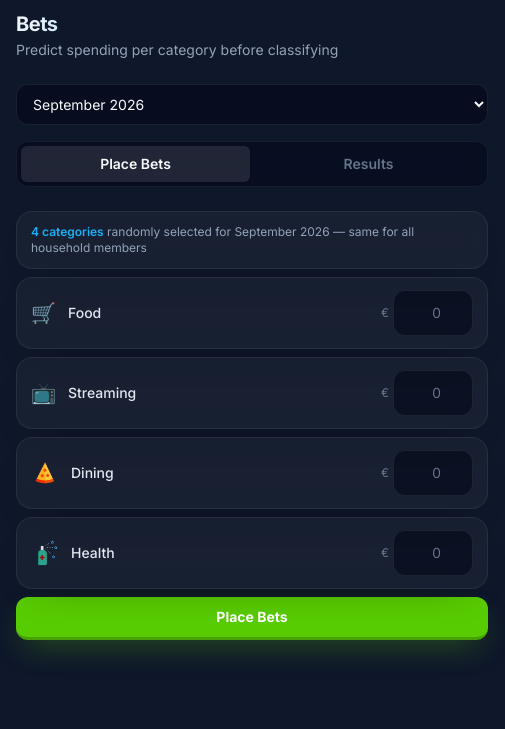
BetsPage › shows error banner when submitBets returns an error
The image size is (505, 729).
Type "100" into the number field with placeholder "0" in the row of "Food".
click(433, 313); type("100")  # box [393,290,473,336]
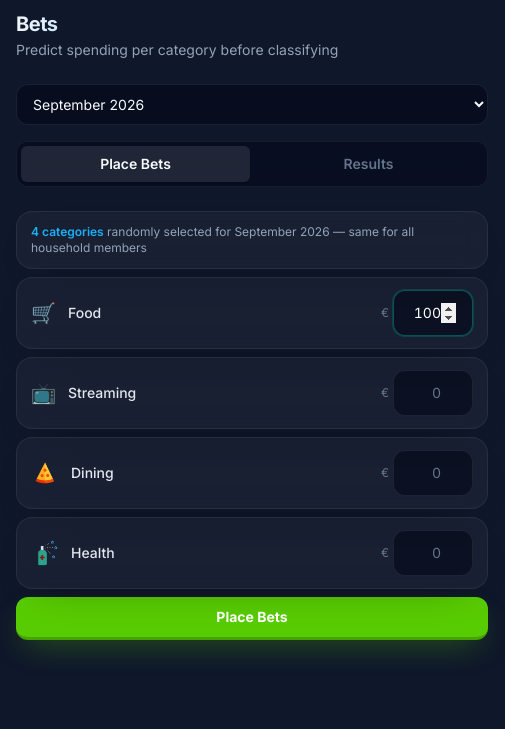
Click the button "Place Bets" below "Health".
click(252, 618)  # box [16,597,488,640]
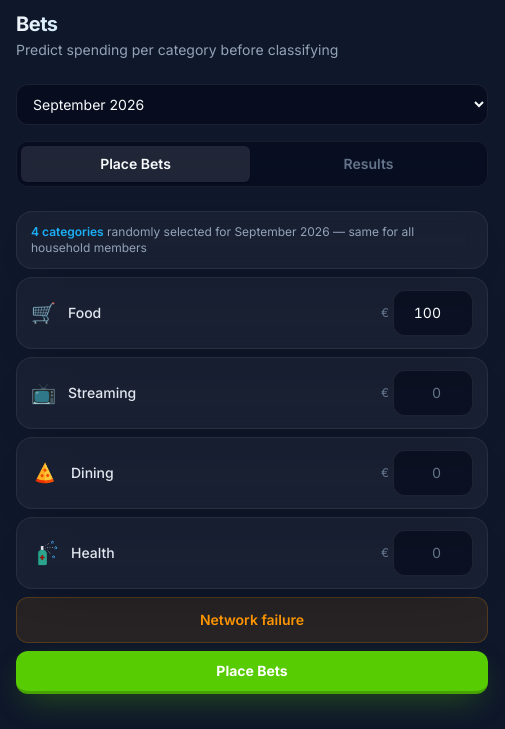
Expected: the text "Network failure" is shown, [16,597,488,643]
